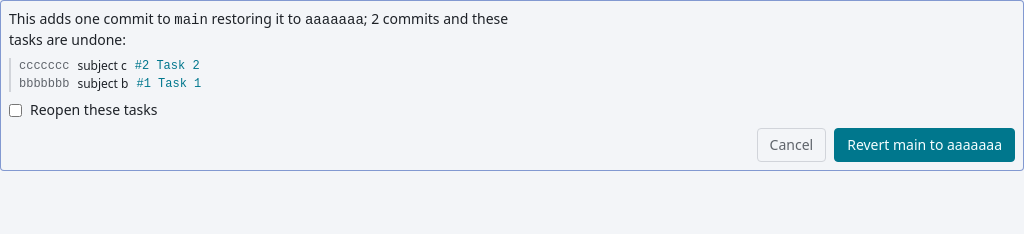
Test: RevertConfirm › shows any other refusal in the server's words
Step 1. Click the button "Revert main to aaaaaaa" → (925, 145), box [834,128,1015,162]
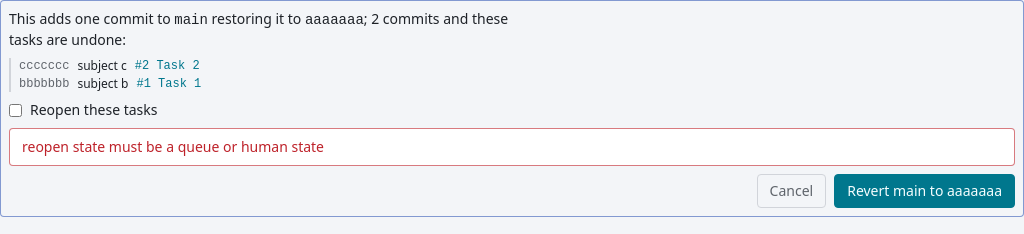
Result: the message reads "reopen state must be a queue or human state" at [22,137,324,156]
